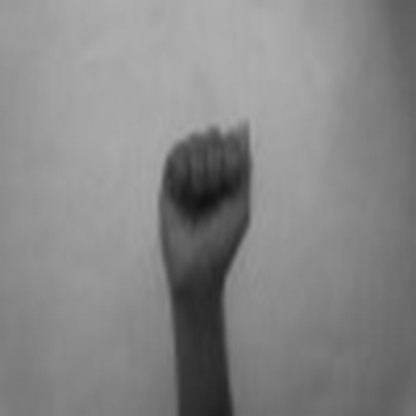a: (152, 104, 261, 287)
